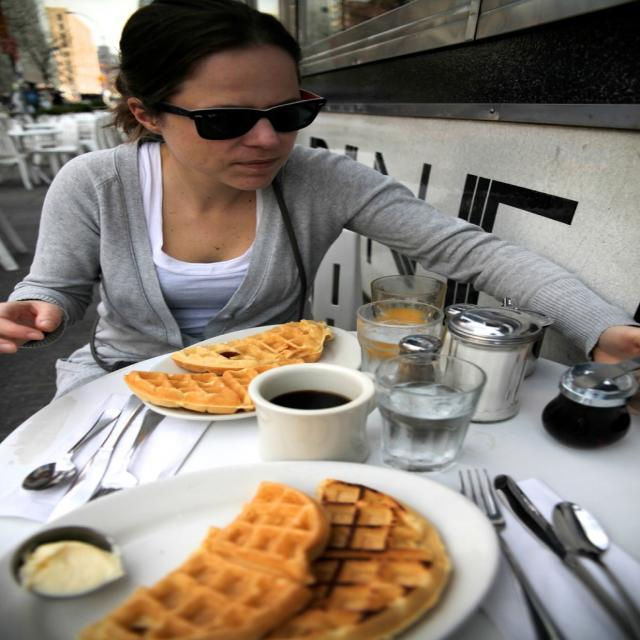Waffle: (72, 479, 330, 640), (86, 482, 337, 640), (269, 475, 455, 639), (268, 478, 454, 640), (121, 357, 305, 415), (168, 318, 336, 374), (169, 319, 339, 373)
